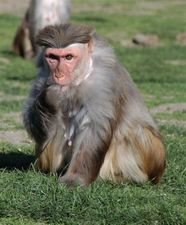monkey: (8, 10, 169, 197)
